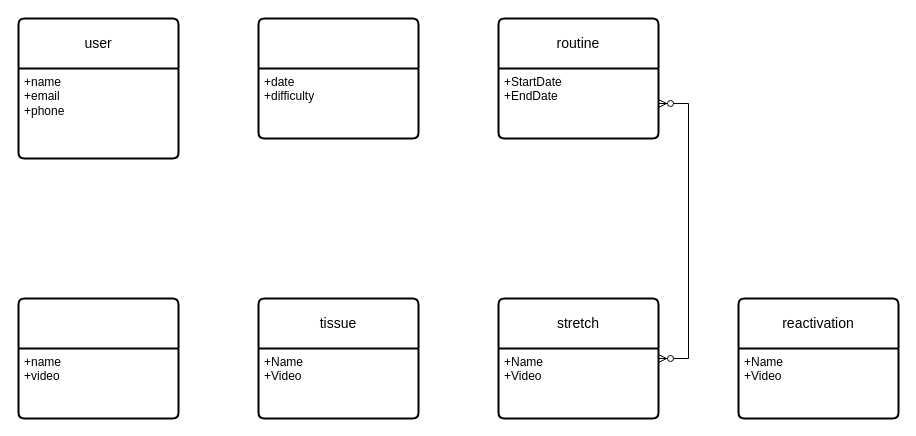
Image size: 916x436. Some labels were removed from this diagram. Each missing label, with the box of its shape:
test: (17, 297, 179, 419)
test_tracker: (257, 17, 419, 139)
